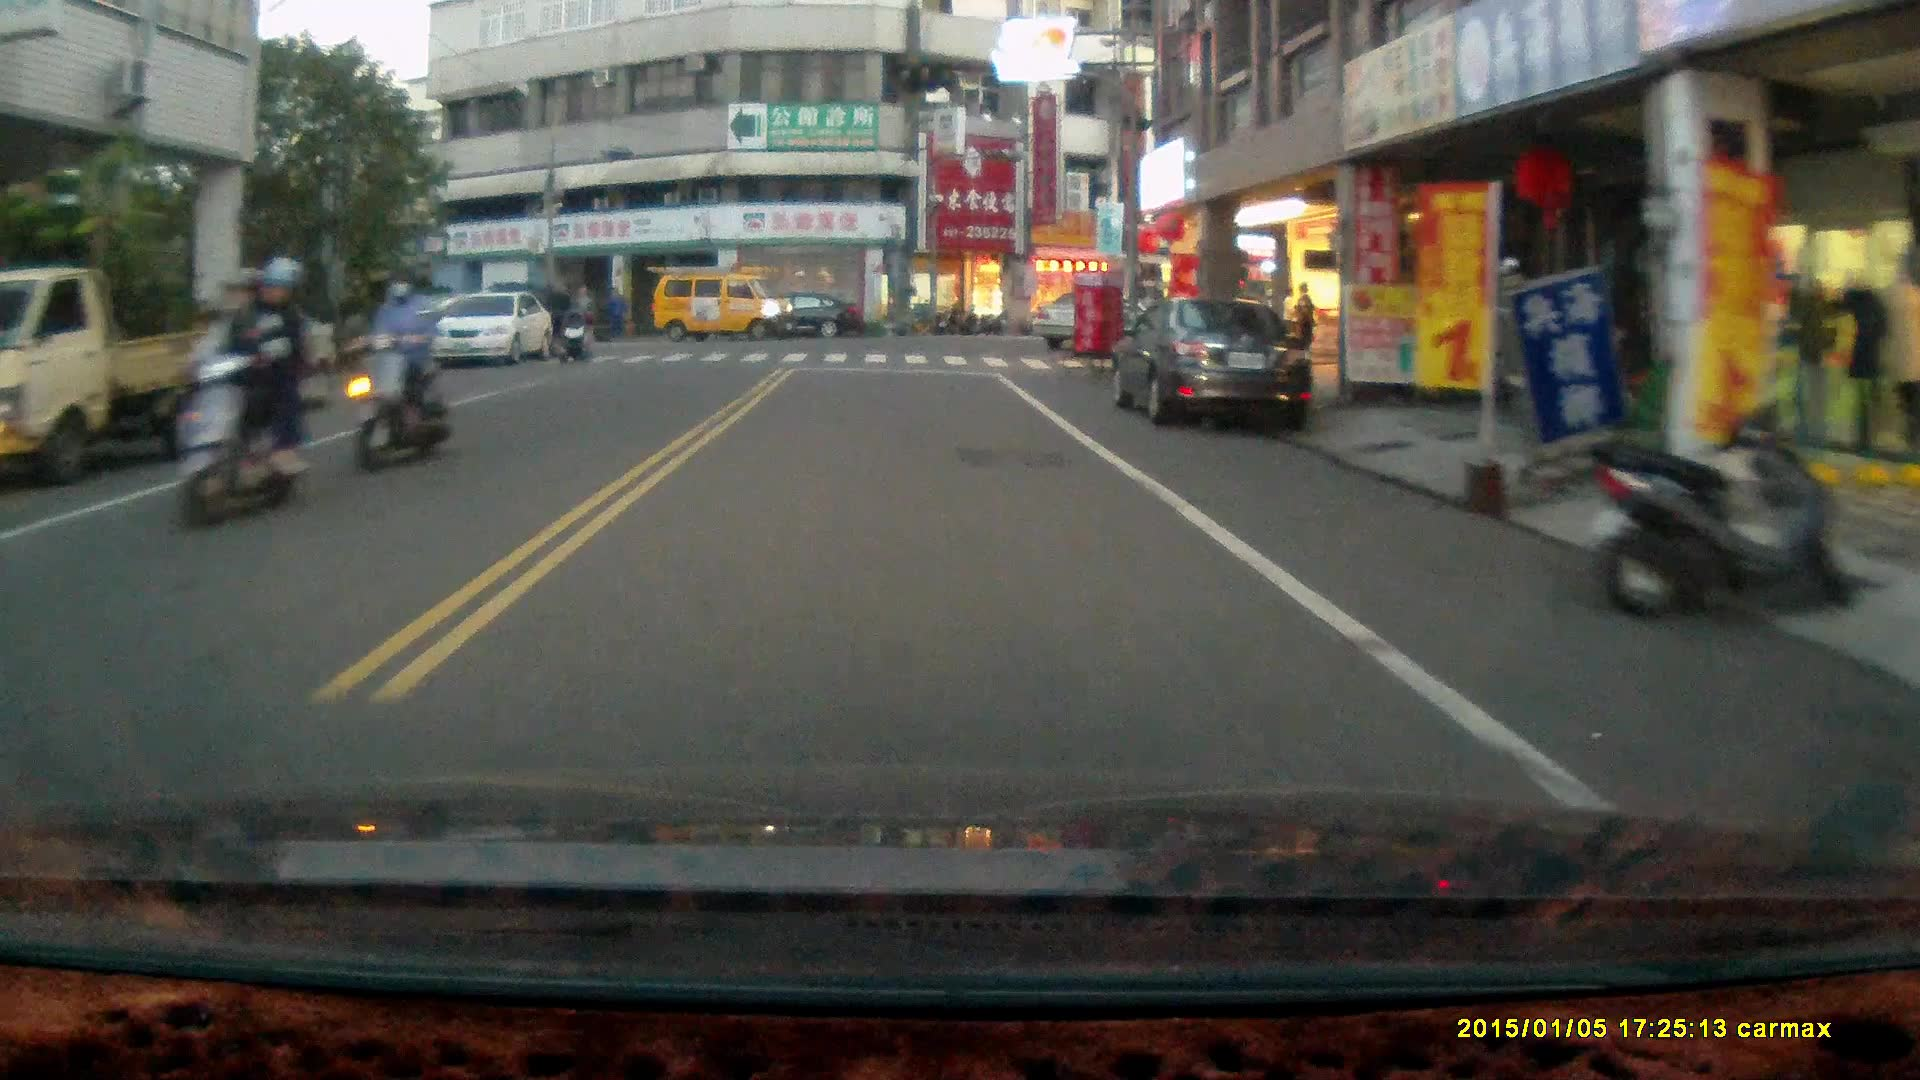pedestrian: (1293, 280, 1318, 364)
rider: (176, 255, 312, 535), (353, 258, 453, 476), (554, 306, 597, 366)
vehicle: (1, 263, 271, 482), (1108, 292, 1327, 439), (654, 262, 795, 344), (422, 288, 550, 368), (742, 289, 867, 341)
